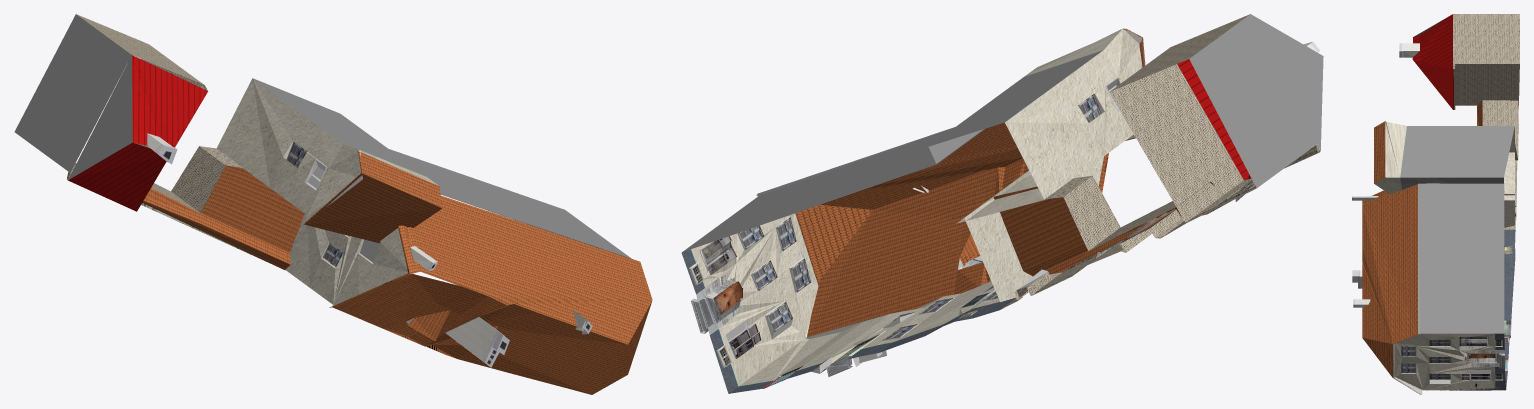
The model's file is Pikk-45-origo.obj.
3 renders of one model, left to right at view 1: azimuth 30°, elevation 25°; view 2: azimuth 150°, elevation 25°; view 3: azimuth 270°, elevation 25°, orthographic. The views are drawn at different scales.
Size of the model in its own units: 41.38 by 31 by 18.53.
